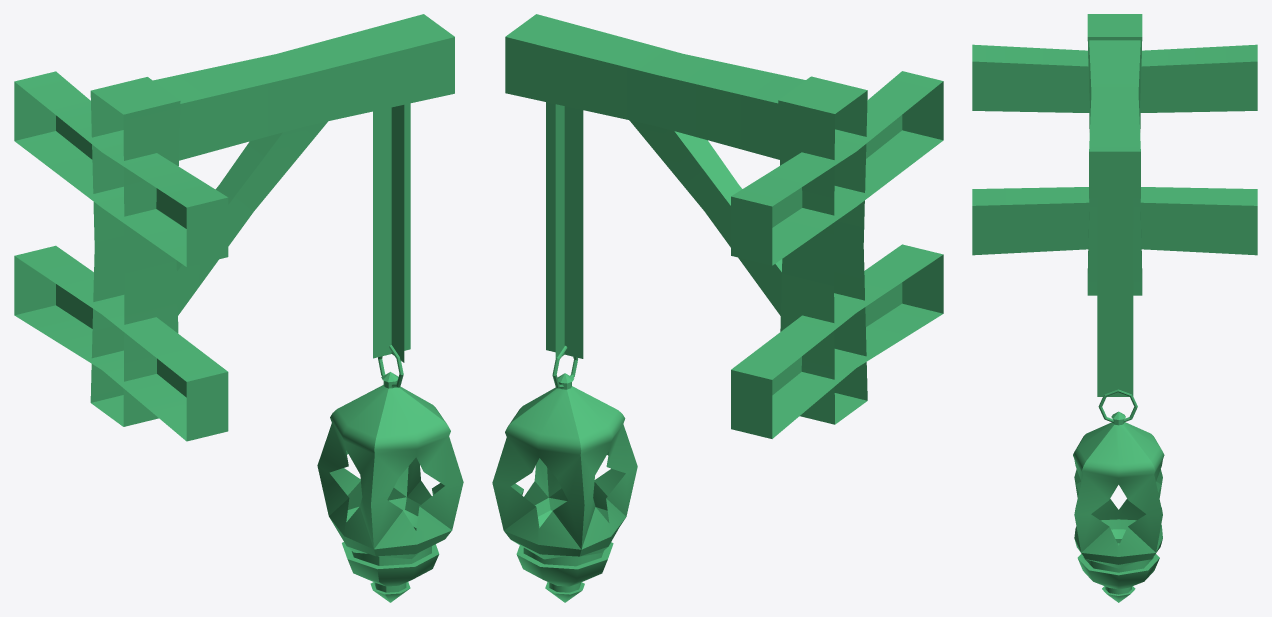
Rendered from lantern.fbx.
3 renders of one model, left to right at view 1: azimuth 30°, elevation 25°; view 2: azimuth 150°, elevation 25°; view 3: azimuth 270°, elevation 25°, orthographic. The views are drawn at different scales.
Parts seen in each view (by area): view 1: pPlane29; view 2: pPlane29; view 3: pPlane29.
Part boxes in pixels (box(x1,y1,x2,y2)): pPlane29: box(14, 14, 463, 602); pPlane29: box(492, 14, 943, 602); pPlane29: box(972, 14, 1257, 602).
Size of the model in its own units: 0.8908 by 1.43 by 0.7816.
